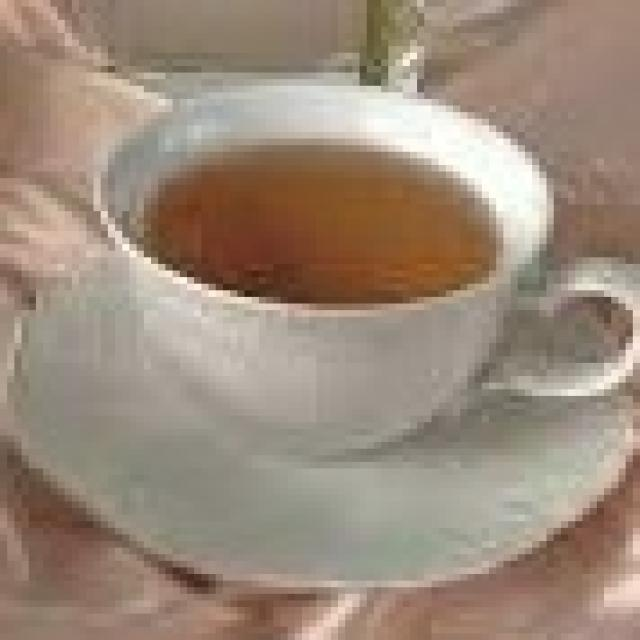taza: (84, 59, 640, 467)
